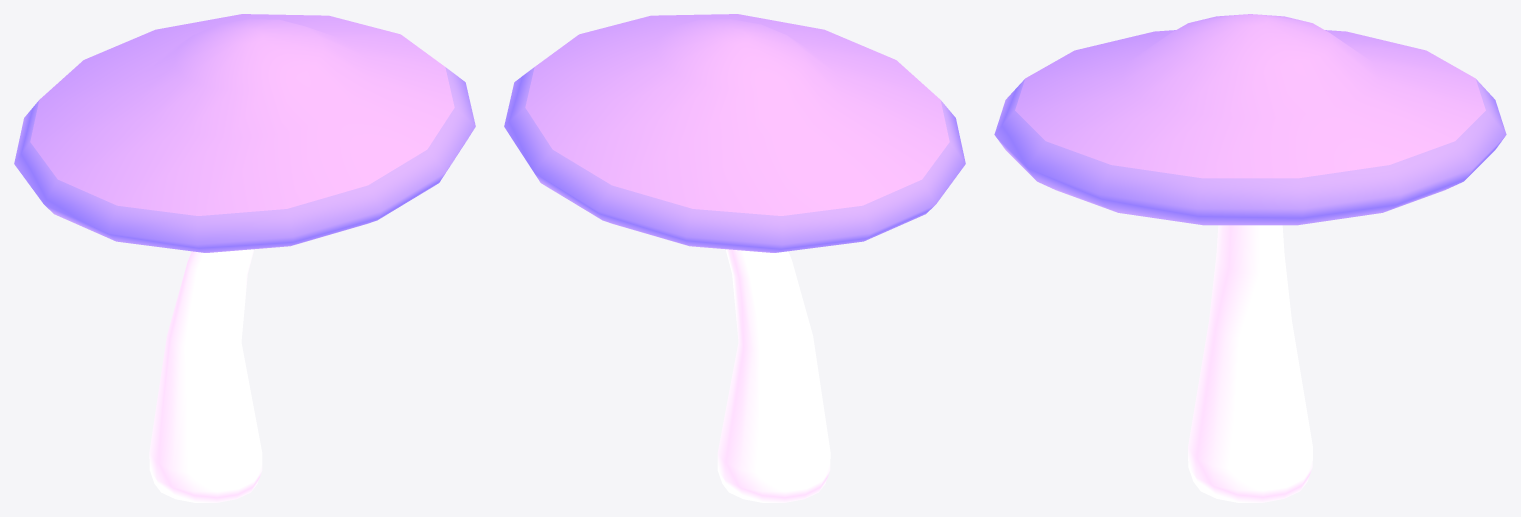
File: cogumelo_G1.fbx
3 renders of one model, left to right at view 1: azimuth 30°, elevation 25°; view 2: azimuth 150°, elevation 25°; view 3: azimuth 270°, elevation 25°, orthographic. The views are drawn at different scales.
Visible parts, largest first — view 1: cogu_G1; view 2: cogu_G1; view 3: cogu_G1.
Part boxes in pixels (bbox=[...]): cogu_G1: bbox=[14, 14, 475, 502]; cogu_G1: bbox=[504, 14, 965, 502]; cogu_G1: bbox=[994, 14, 1506, 502].
Bounding box in the file's own units: 1600 × 1614 × 1678.
